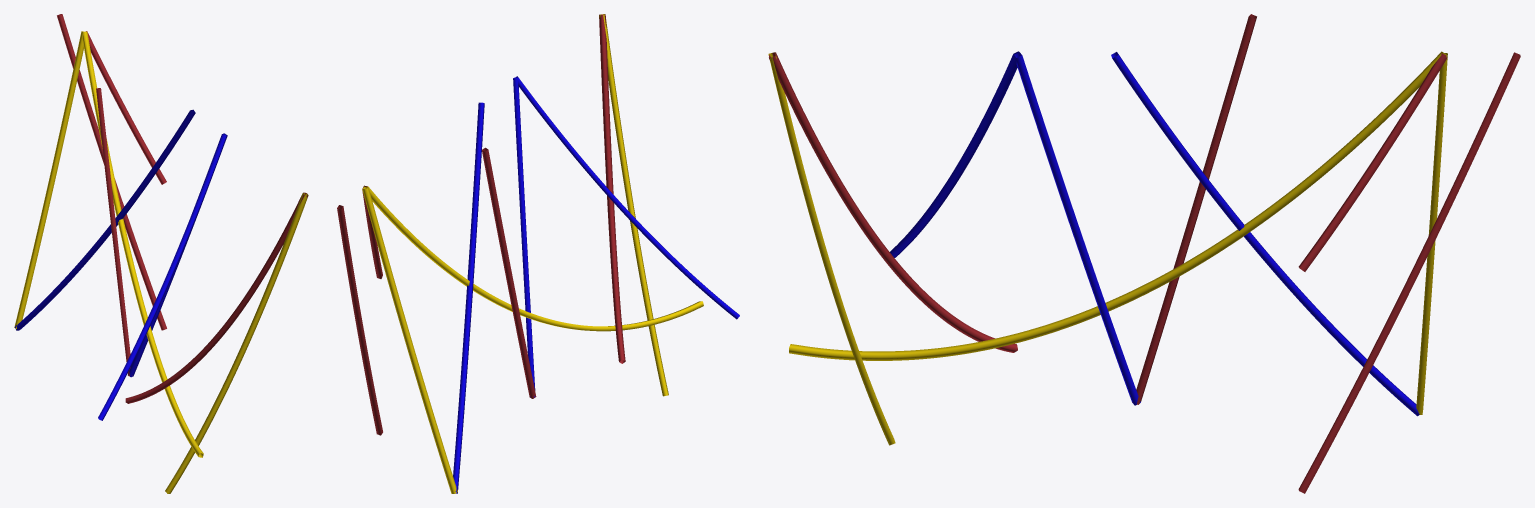
Rendered from Pipes_3.fbx.
3 views of the same model, side by side, from view 1: azimuth 30°, elevation 25°; view 2: azimuth 150°, elevation 25°; view 3: azimuth 270°, elevation 25° (orthographic). The views are drawn at different scales.
Visible parts, largest first — view 1: Catenary.075, Catenary.049, Catenary.084, Catenary.074, Catenary.071, Catenary.050, Catenary.076, Catenary.072, Catenary.077, Catenary.073; view 2: Catenary.071, Catenary.050, Catenary.075, Catenary.049, Catenary.084, Catenary.074, Catenary.072, Catenary.073, Catenary.076, Catenary.077; view 3: Catenary.075, Catenary.076, Catenary.071, Catenary.050, Catenary.072, Catenary.073, Catenary.049, Catenary.084, Catenary.077, Catenary.074.
Boxes of the visible parts, x1=… form: Catenary.075: x1=82, y1=31, x2=203, y2=457; Catenary.049: x1=165, y1=193, x2=308, y2=493; Catenary.084: x1=14, y1=31, x2=83, y2=328; Catenary.074: x1=98, y1=134, x2=226, y2=420; Catenary.071: x1=15, y1=109, x2=195, y2=330; Catenary.050: x1=125, y1=192, x2=307, y2=403; Catenary.076: x1=57, y1=14, x2=166, y2=330; Catenary.072: x1=96, y1=88, x2=132, y2=376; Catenary.077: x1=86, y1=31, x2=166, y2=184; Catenary.073: x1=128, y1=133, x2=227, y2=377; Catenary.071: x1=453, y1=102, x2=484, y2=493; Catenary.050: x1=599, y1=14, x2=625, y2=363; Catenary.075: x1=363, y1=186, x2=703, y2=331; Catenary.049: x1=599, y1=14, x2=668, y2=396; Catenary.084: x1=362, y1=187, x2=457, y2=493; Catenary.074: x1=514, y1=76, x2=739, y2=319; Catenary.072: x1=482, y1=147, x2=536, y2=398; Catenary.073: x1=513, y1=77, x2=535, y2=397; Catenary.076: x1=337, y1=205, x2=382, y2=435; Catenary.077: x1=362, y1=185, x2=382, y2=278; Catenary.075: x1=789, y1=51, x2=1446, y2=360; Catenary.076: x1=1298, y1=52, x2=1520, y2=493; Catenary.071: x1=1111, y1=52, x2=1419, y2=416; Catenary.050: x1=769, y1=52, x2=1017, y2=352; Catenary.072: x1=1132, y1=14, x2=1256, y2=404; Catenary.073: x1=1014, y1=52, x2=1140, y2=405; Catenary.049: x1=768, y1=52, x2=895, y2=445; Catenary.084: x1=1416, y1=53, x2=1447, y2=414; Catenary.077: x1=1298, y1=53, x2=1447, y2=271; Catenary.074: x1=890, y1=51, x2=1021, y2=257.
Size of the model in its own units: 444 by 640 by 938.
